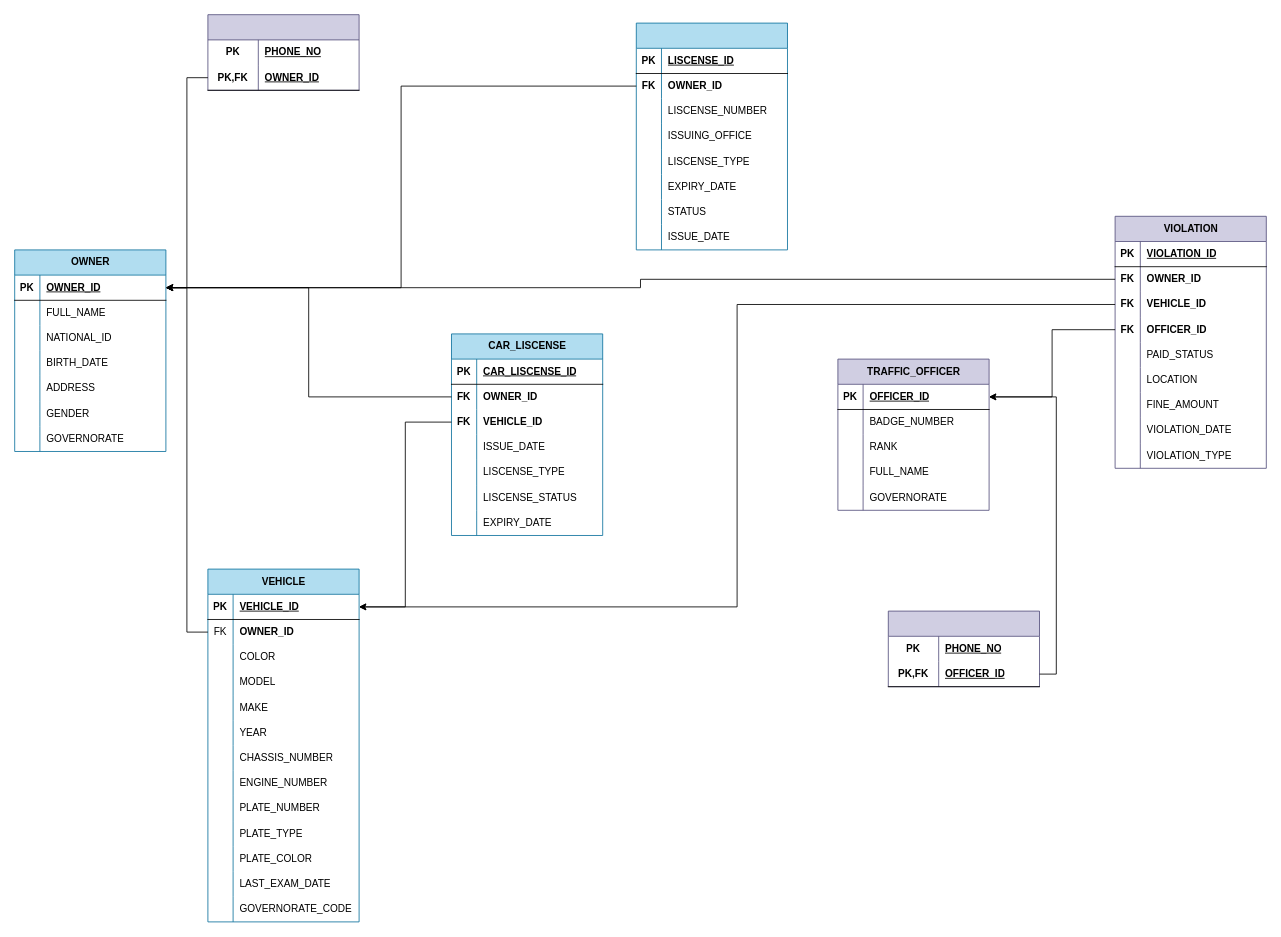
Image size: 1281x937. Some labels were removed from this diagram. Here are the shapes that lost their labels. From the top down, the box of each, then its label:
(207, 14, 359, 90): OWNER_PHONE
(635, 22, 788, 250): OWNER_LISCENSE
(887, 610, 1040, 687): OFFICER_NUMBER
